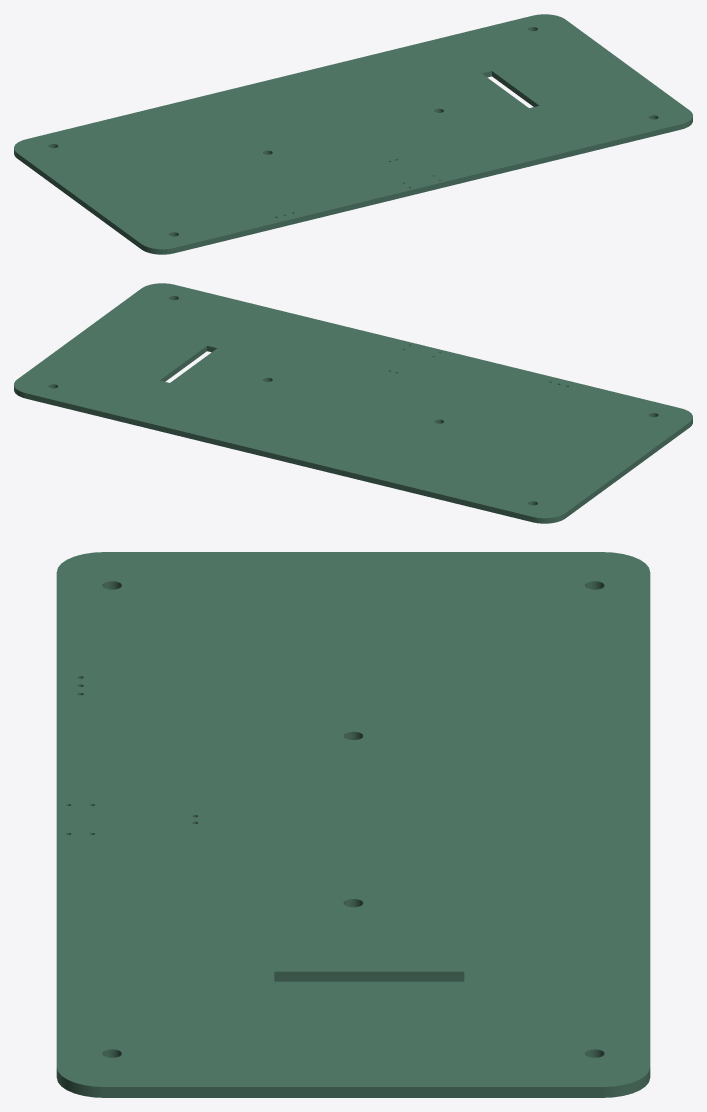
Rendered from pcb-3d-model.glb.
The picture shows the model from 3 angles, top to bottom: view 1: azimuth 30°, elevation 25°; view 2: azimuth 150°, elevation 25°; view 3: azimuth 270°, elevation 25°; orthographic projection. The views are drawn at different scales.
Parts seen in each view (by area): view 1: =>[0:1:1:2]; view 2: =>[0:1:1:2]; view 3: =>[0:1:1:2].
Part boxes in pixels (<box>): =>[0:1:1:2]: <box>14,14,692,254</box>; =>[0:1:1:2]: <box>14,283,692,523</box>; =>[0:1:1:2]: <box>56,552,650,1097</box>.
Size of the model in its own units: 0.16 by 0.00152 by 0.075.
